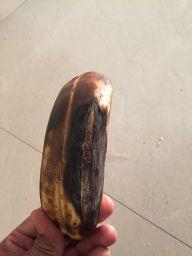banana: (38, 68, 116, 241)
